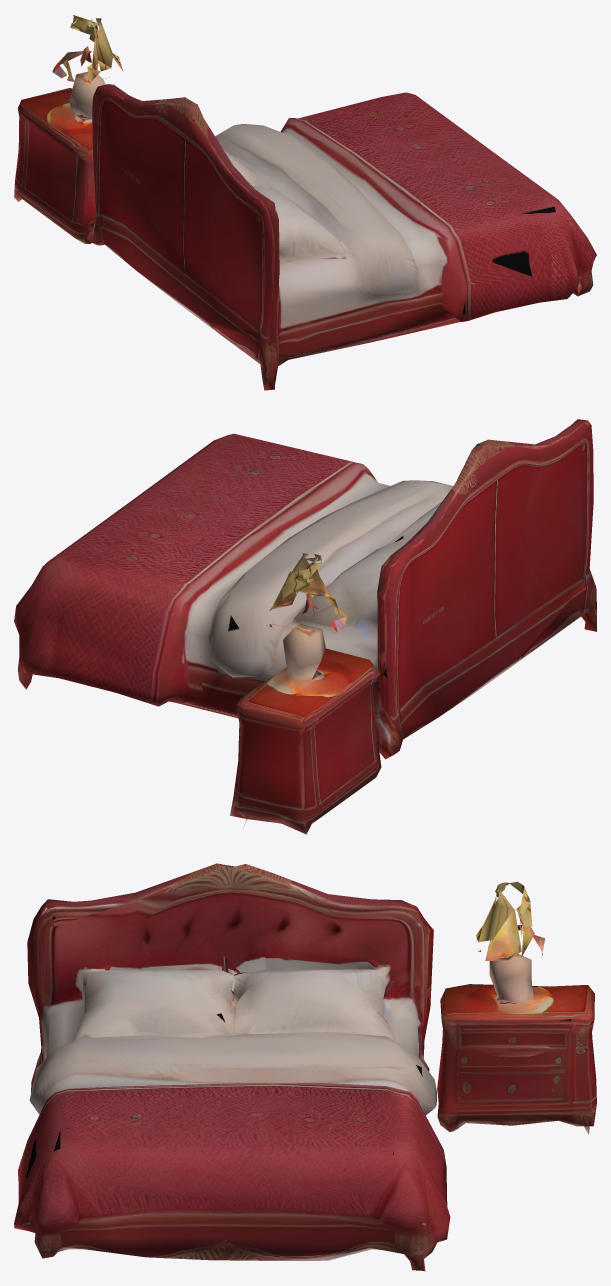
File: Bed with side lamp.fbx
3 renders of one model, top to bottom at view 1: azimuth 30°, elevation 25°; view 2: azimuth 150°, elevation 25°; view 3: azimuth 270°, elevation 25°, orthographic. The views are drawn at different scales.
Parts seen in each view (by area): view 1: Bed with side lamp; view 2: Bed with side lamp; view 3: Bed with side lamp.
Boxes of the visible parts, box(x1,y1,x2,y2) form: Bed with side lamp: box(14, 15, 596, 390); Bed with side lamp: box(14, 419, 596, 834); Bed with side lamp: box(14, 863, 596, 1271).
Bounding box in the file's own units: 69.25 × 44.01 × 93.63.
1 material, 1 textured.
